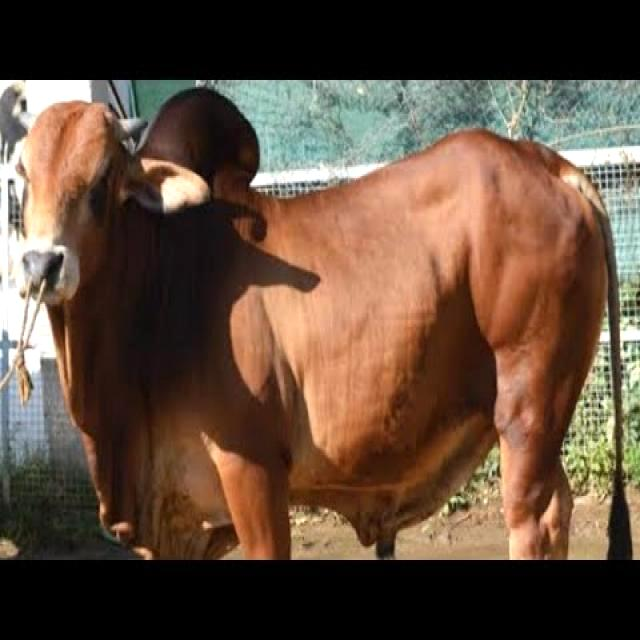COW: (19, 89, 612, 558)
